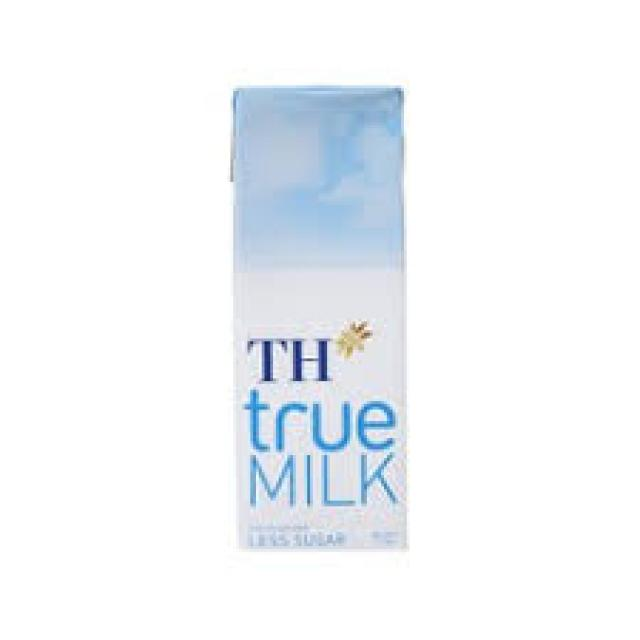non_white_jug: (198, 47, 420, 562)
